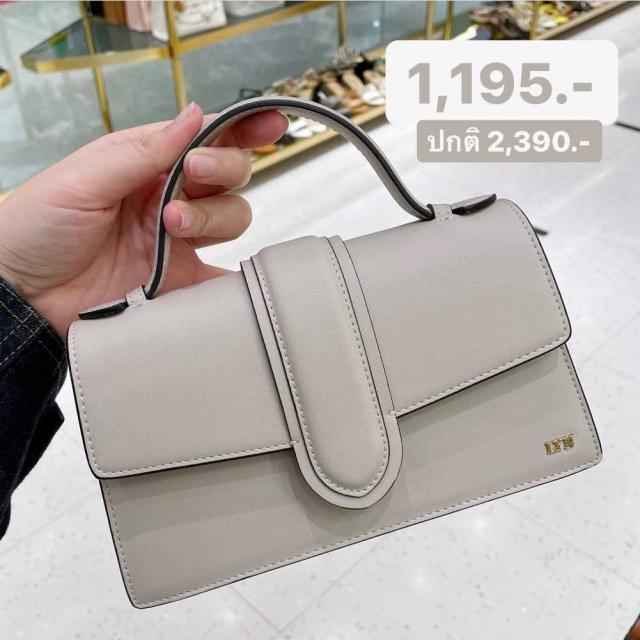Handbag: (63, 89, 613, 614)
